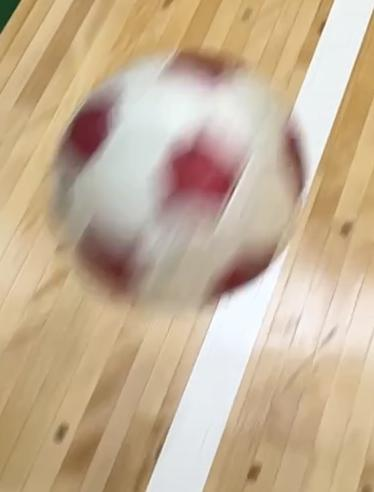Sports-Ball: (66, 52, 298, 298)
